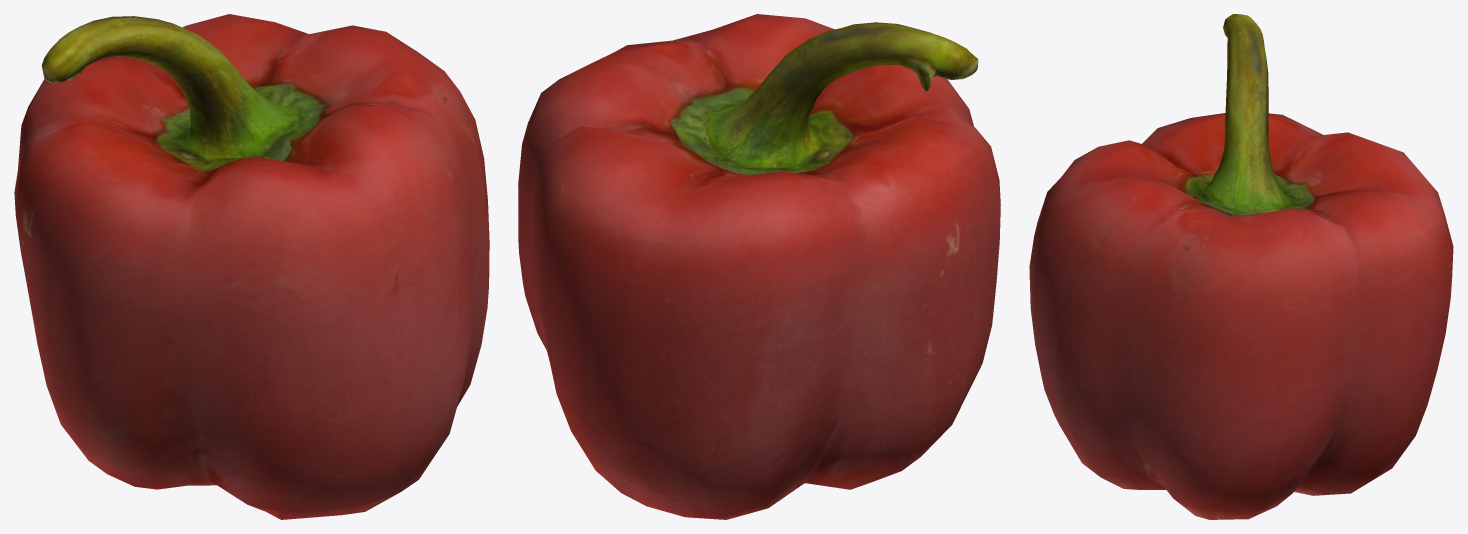
Rendered from Red Bell Paper.fbx.
The picture shows the model from 3 angles, left to right: view 1: azimuth 30°, elevation 25°; view 2: azimuth 150°, elevation 25°; view 3: azimuth 270°, elevation 25°; orthographic projection. The views are drawn at different scales.
Visible parts, largest first — view 1: Box001; view 2: Box001; view 3: Box001.
Boxes of the visible parts, box(x1,y1,x2,y2) form: Box001: box(14, 14, 489, 519); Box001: box(518, 14, 1000, 519); Box001: box(1029, 14, 1453, 519).
Size of the model in its own units: 39.21 by 41.79 by 40.66.
1 material, 1 textured.
